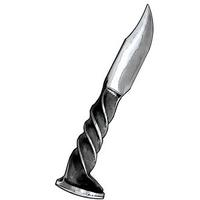knife: (55, 1, 158, 198)
